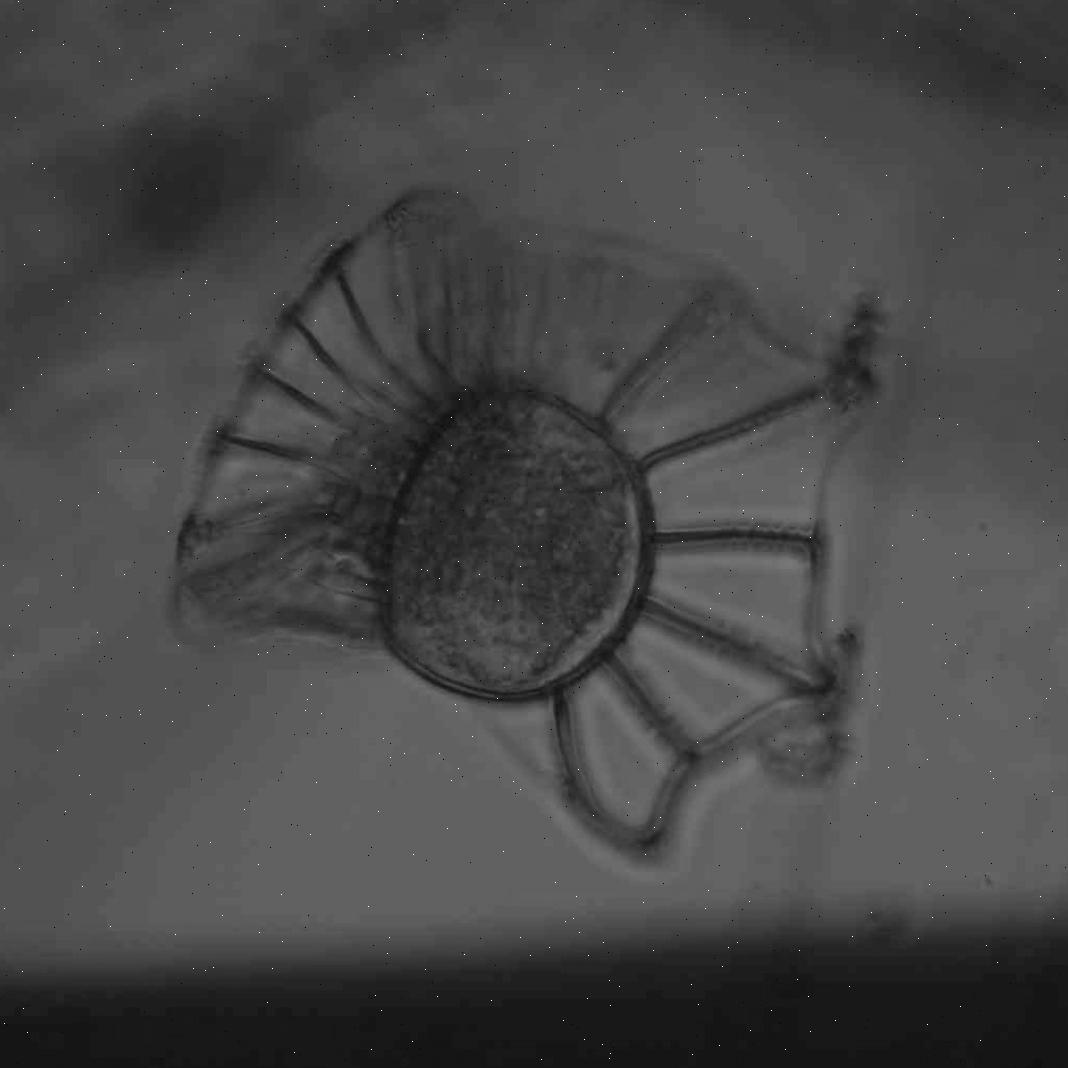ornithocercus_thumii: (171, 191, 874, 853)
